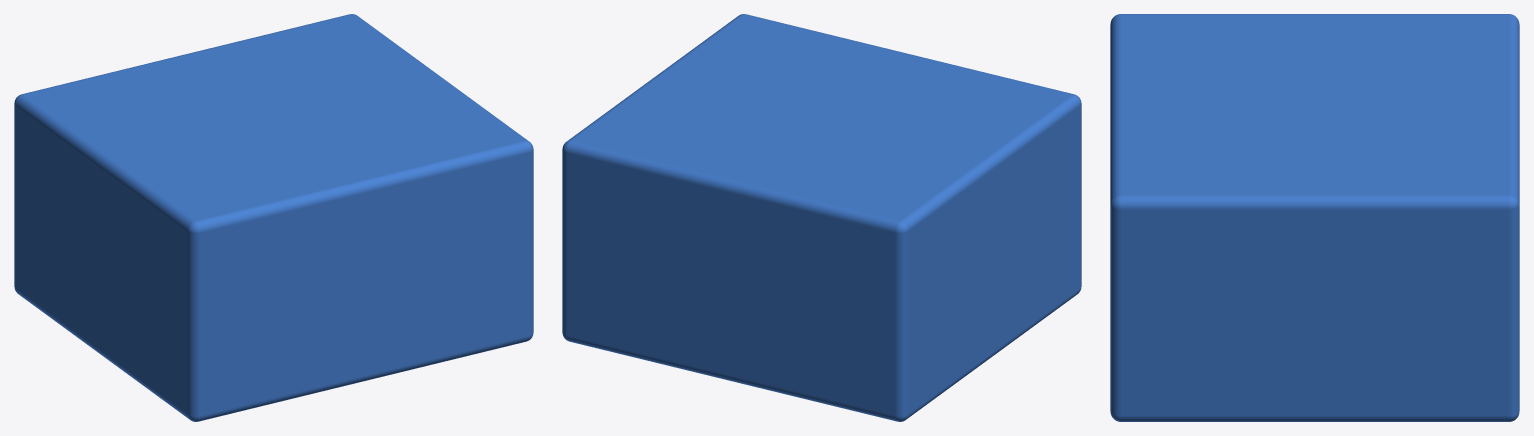
File: battery.dae
The picture shows the model from 3 angles, left to right: view 1: azimuth 30°, elevation 25°; view 2: azimuth 150°, elevation 25°; view 3: azimuth 270°, elevation 25°; orthographic projection. The views are drawn at different scales.
Visible parts, largest first — view 1: BatteryPack; view 2: BatteryPack; view 3: BatteryPack.
Part boxes in pixels (box(x1,y1,x2,y2)): BatteryPack: box(14, 14, 533, 421); BatteryPack: box(562, 14, 1081, 421); BatteryPack: box(1110, 14, 1519, 421).
Size of the model in its own units: 0.126 by 0.115 by 0.07.
